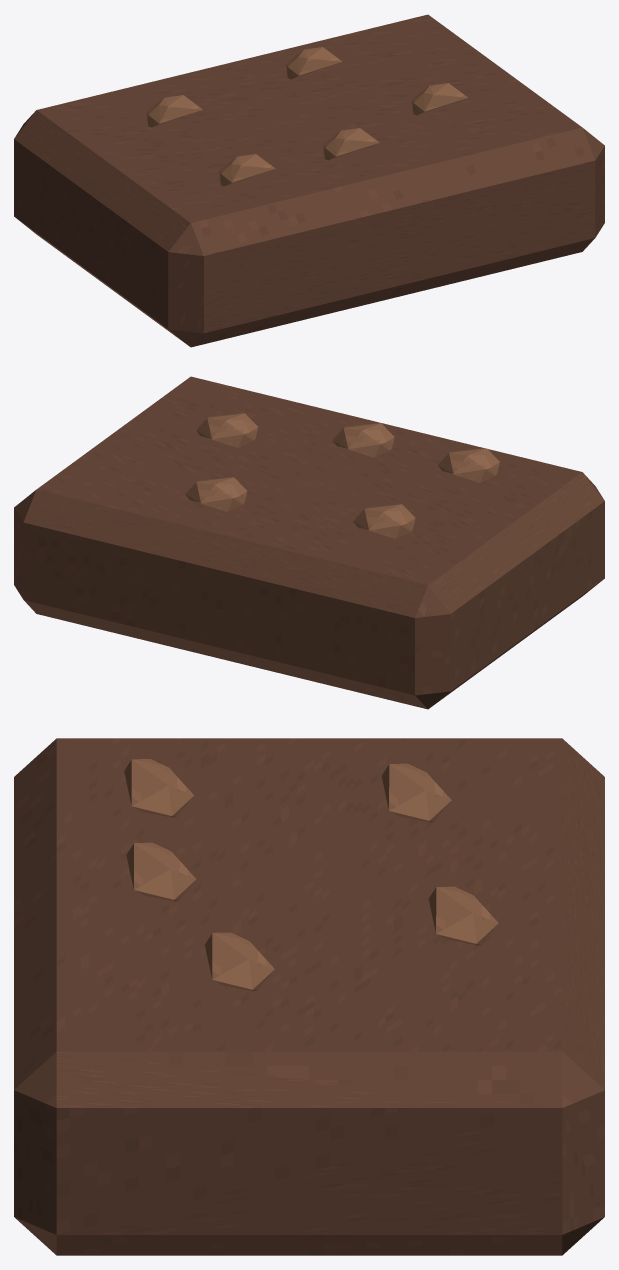
The model's file is brownie.glb.
The picture shows the model from 3 angles, top to bottom: view 1: azimuth 30°, elevation 25°; view 2: azimuth 150°, elevation 25°; view 3: azimuth 270°, elevation 25°; orthographic projection. The views are drawn at different scales.
Parts seen in each view (by area): view 1: block_brownie crumb, block_visible crumb flecks (×5); view 2: block_brownie crumb, block_visible crumb flecks (×5); view 3: block_brownie crumb, block_visible crumb flecks (×5).
Part boxes in pixels (x1,y1,x2,y2): block_brownie crumb: [14, 14, 604, 347]; block_visible crumb flecks (×5): [147, 47, 467, 186]; block_brownie crumb: [14, 376, 604, 709]; block_visible crumb flecks (×5): [185, 413, 499, 538]; block_brownie crumb: [14, 738, 604, 1255]; block_visible crumb flecks (×5): [124, 759, 498, 991].
Bounding box in the file's own units: 0.1092 × 0.0352 × 0.0781.
1 material, 1 textured.
